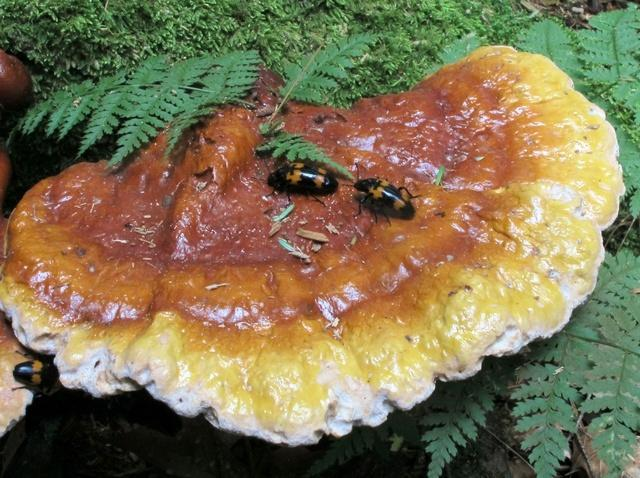Non-edible Mushroom: (0, 43, 640, 436)
